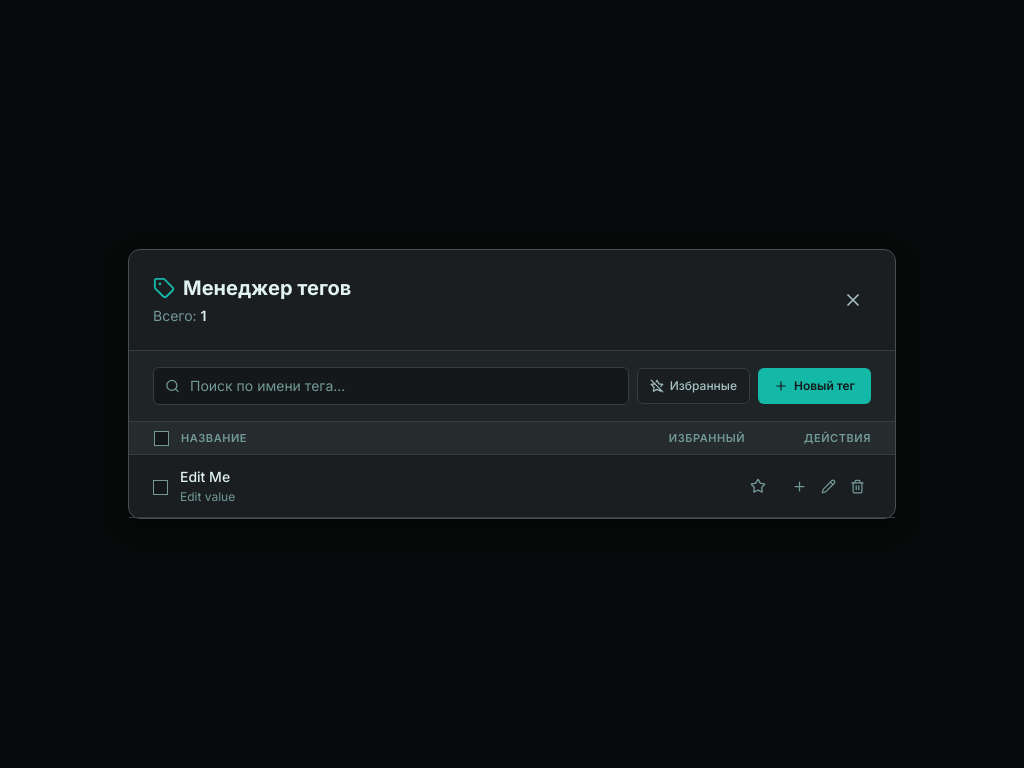
it: TagManagerModal › Форма создания/редактирования › открывает форму редактирования по кнопке карандаша
Check: the text "Edit Me" is shown, box [180,468,230,485]
Click the button named "Редактировать тег Edit Me". click: (828, 486)
box: [815,473,842,500]
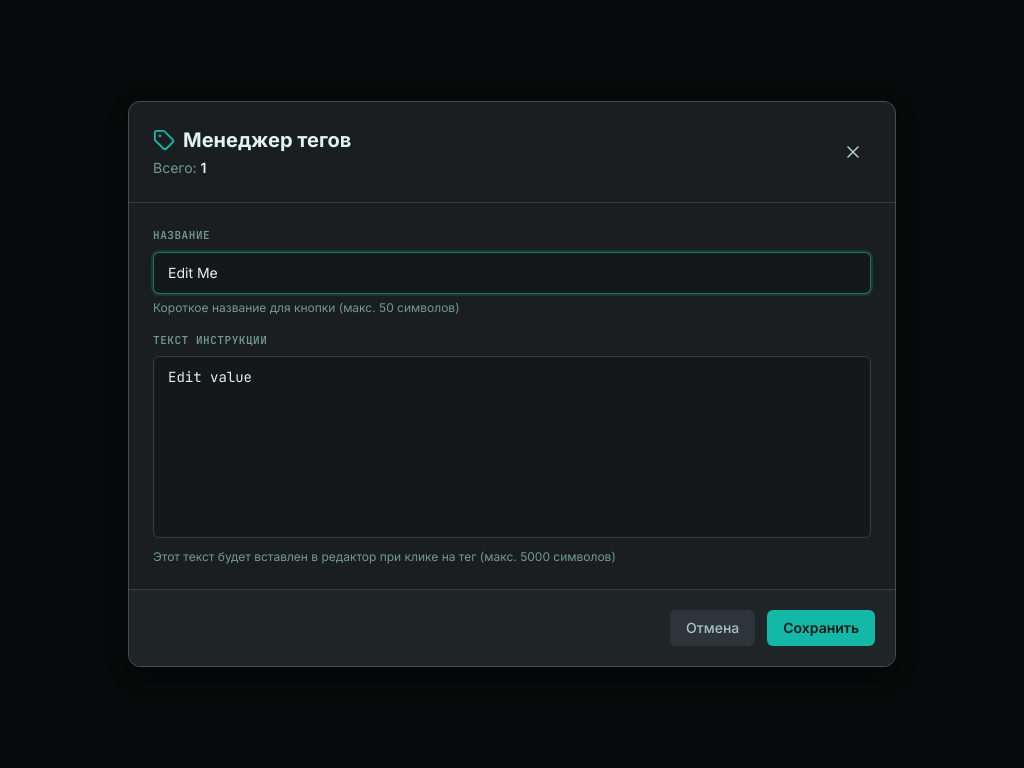
Check: the field labelled "Название" holds "Edit Me", box [153,252,871,294]
Check: the text box labelled "Текст инструкции" holds "Edit value", box [153,356,871,538]
